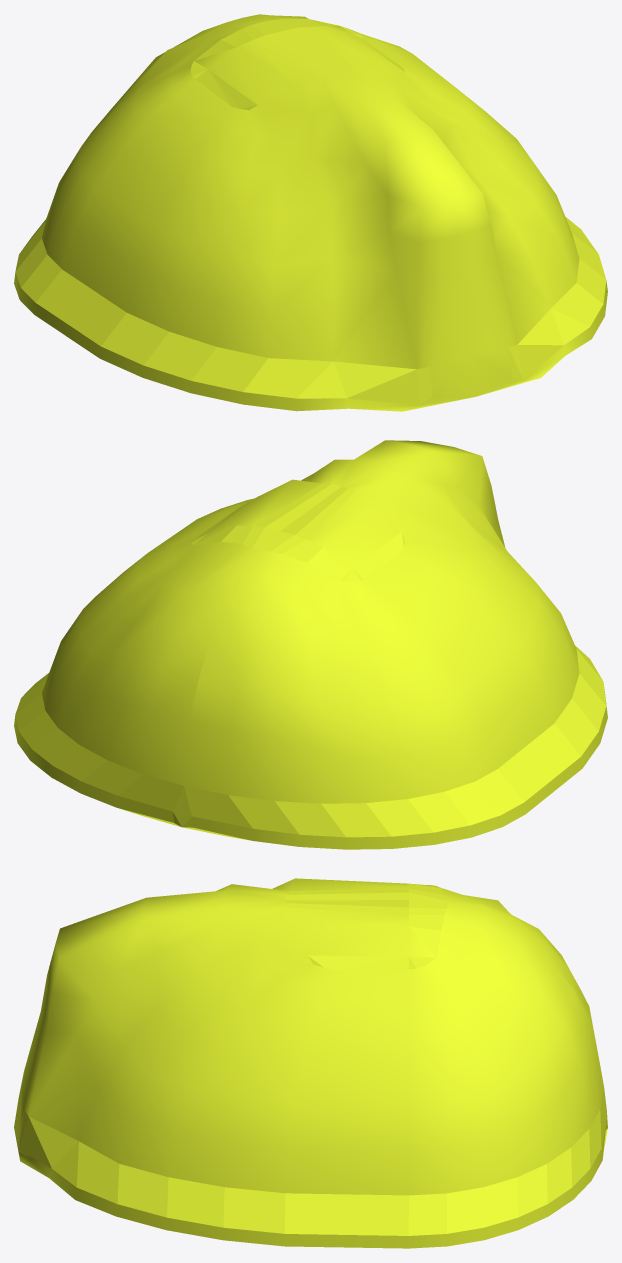
File: ヘルメット.fbx
3 renders of one model, top to bottom at view 1: azimuth 30°, elevation 25°; view 2: azimuth 150°, elevation 25°; view 3: azimuth 270°, elevation 25°, orthographic.
Visible parts, largest first — view 1: オブジェクト003; view 2: オブジェクト003; view 3: オブジェクト003.
Part boxes in pixels (x1,y1,x2,y2): オブジェクト003: [14, 14, 607, 411]; オブジェクト003: [14, 440, 607, 849]; オブジェクト003: [14, 878, 607, 1248].
Bounding box in the file's own units: 14.25 × 6.3 × 14.69.
